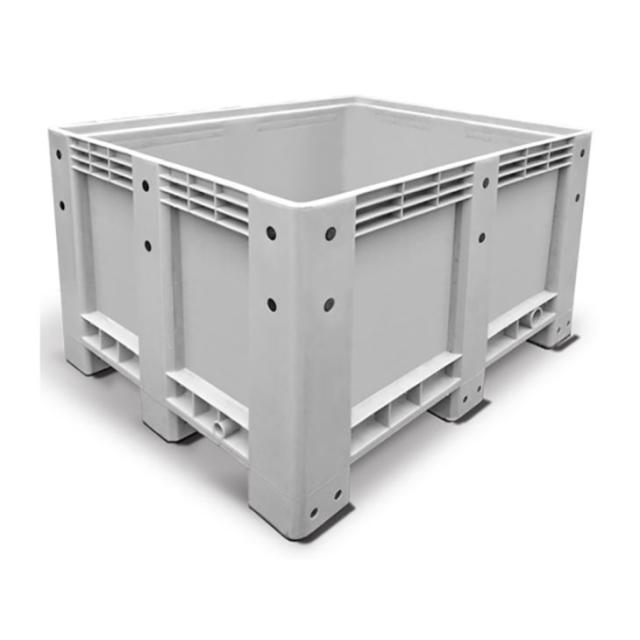basket: (47, 85, 608, 551)
